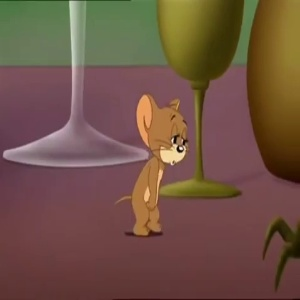Jerry: (133, 91, 191, 167)
